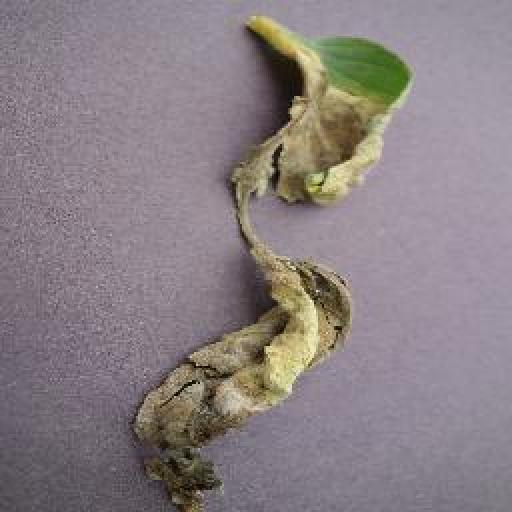Late Blight: (130, 37, 410, 512)
